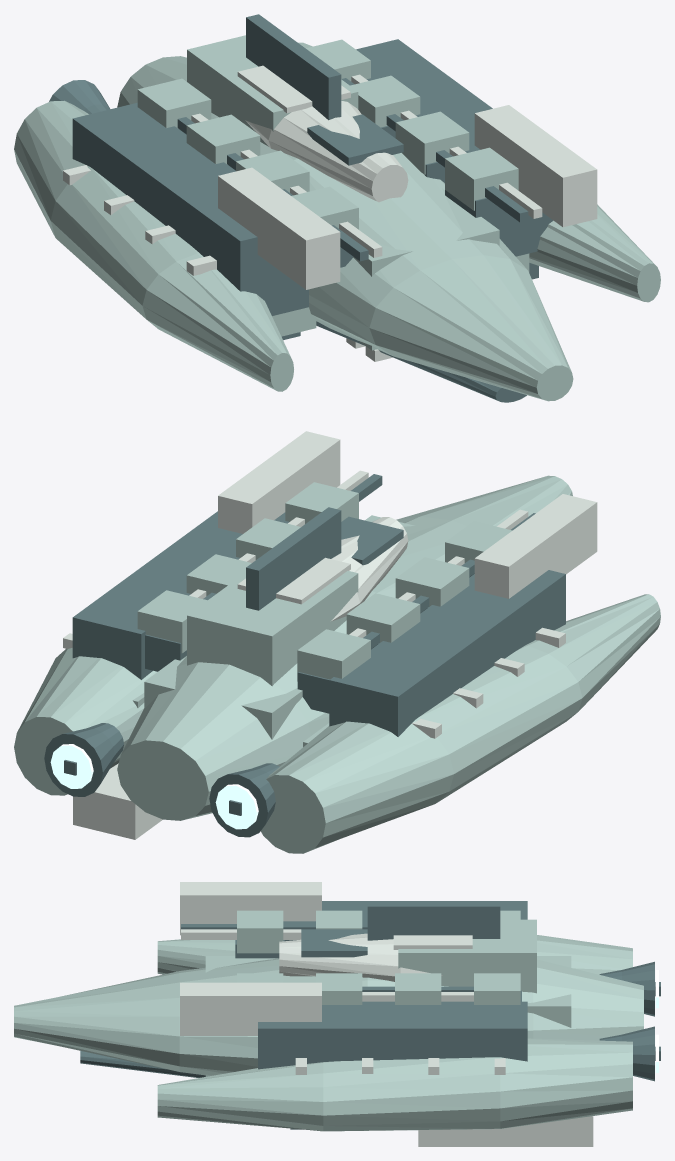
The picture shows the model from 3 angles, top to bottom: view 1: azimuth 30°, elevation 25°; view 2: azimuth 150°, elevation 25°; view 3: azimuth 270°, elevation 25°; orthographic projection. The views are drawn at different scales.
Size of the model in its own units: 16.52 by 8.71 by 26.18.
